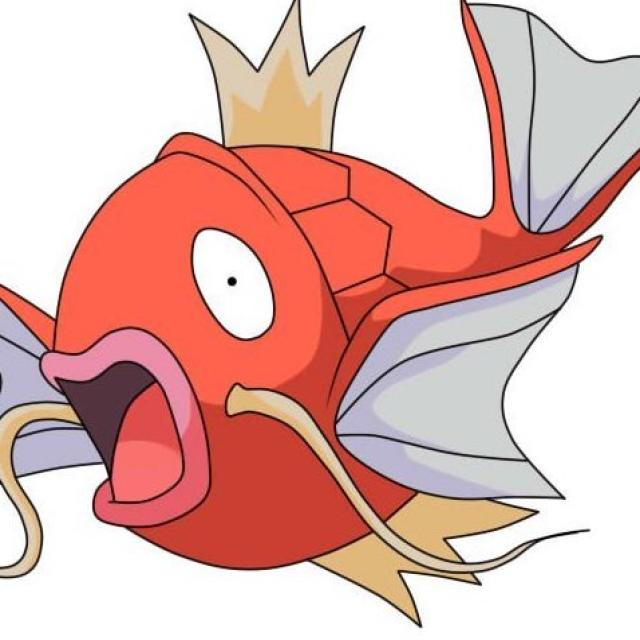Magikarp: (19, 56, 640, 579)
